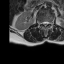CCS_normal: (44, 19, 46, 28)
LFS_normal: (48, 19, 51, 26)
LLS_normal: (46, 19, 48, 26)
RFS_normal: (40, 19, 42, 25)
RLS_normal: (42, 19, 44, 26)
